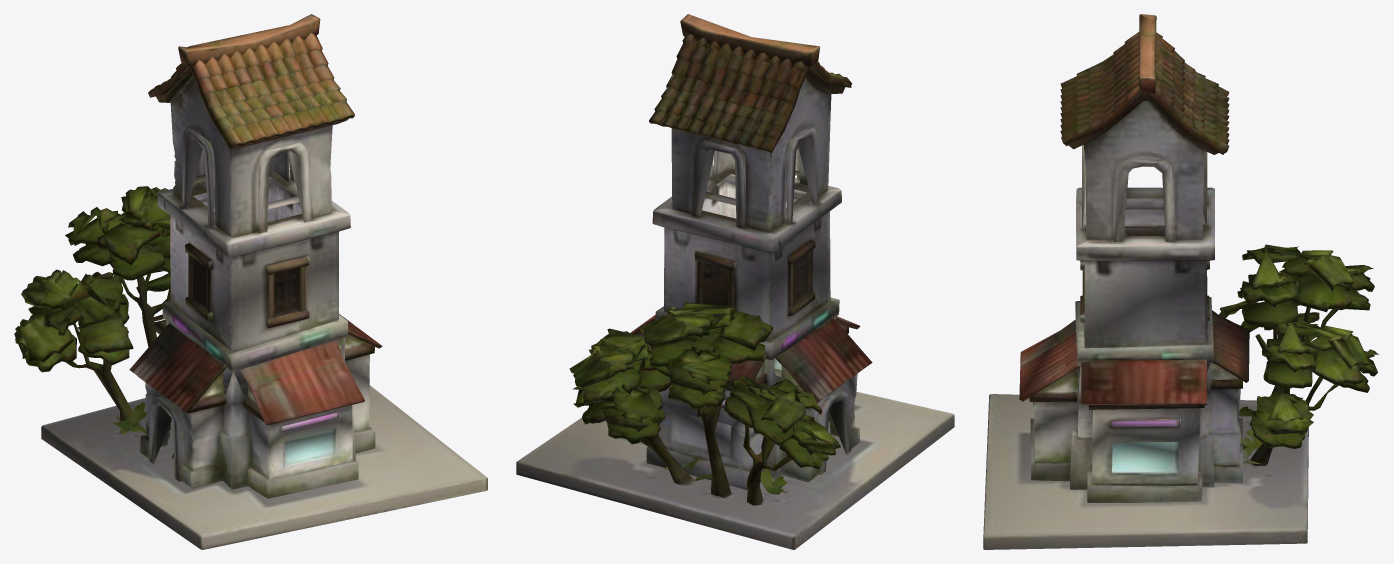
File: lm_turtle_tower.glb
3 views of the same model, side by side, from view 1: azimuth 30°, elevation 25°; view 2: azimuth 150°, elevation 25°; view 3: azimuth 270°, elevation 25° (orthographic).
Visible parts, largest first — view 1: Body; view 2: Body; view 3: Body.
Boxes of the visible parts, x1,y1,x2,y2 form: Body: [14, 14, 487, 549]; Body: [516, 14, 954, 549]; Body: [983, 14, 1378, 549].
Bounding box in the file's own units: 9.61 × 12.61 × 10.56.
1 material, 1 textured.
